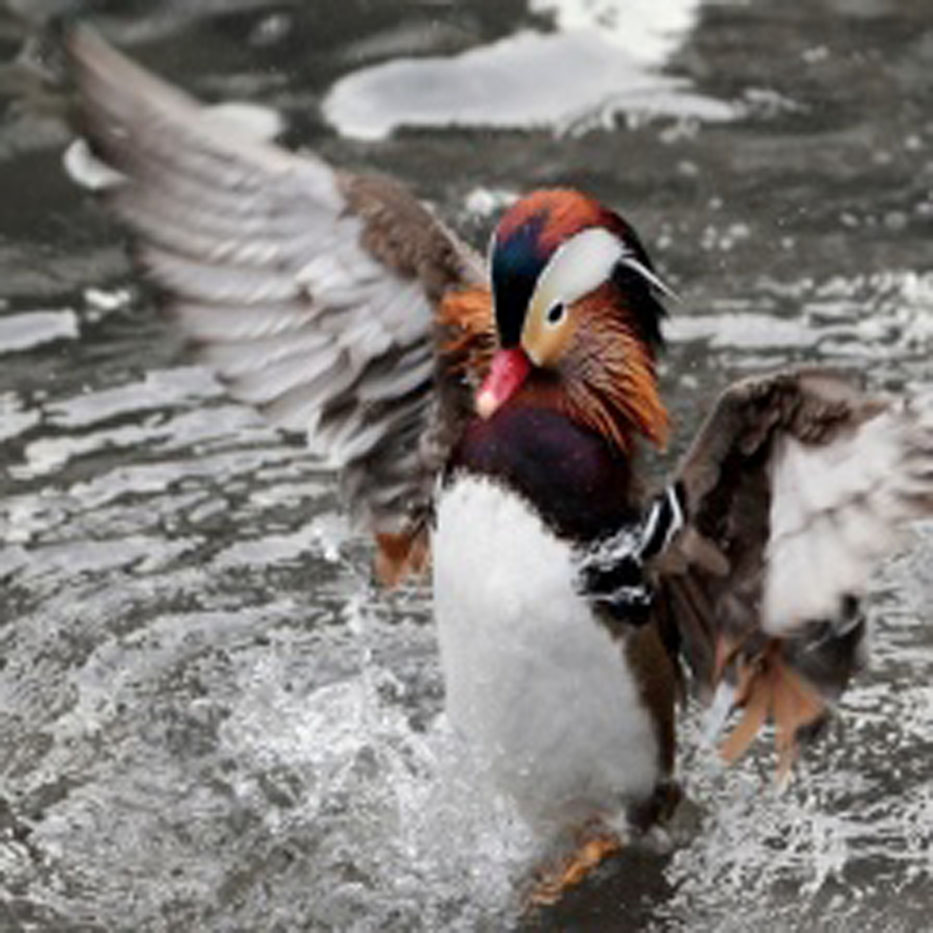Mencari Makan di Lumpur: (456, 332, 531, 429)
